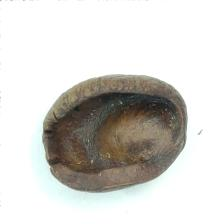NG: (42, 79, 186, 188)
